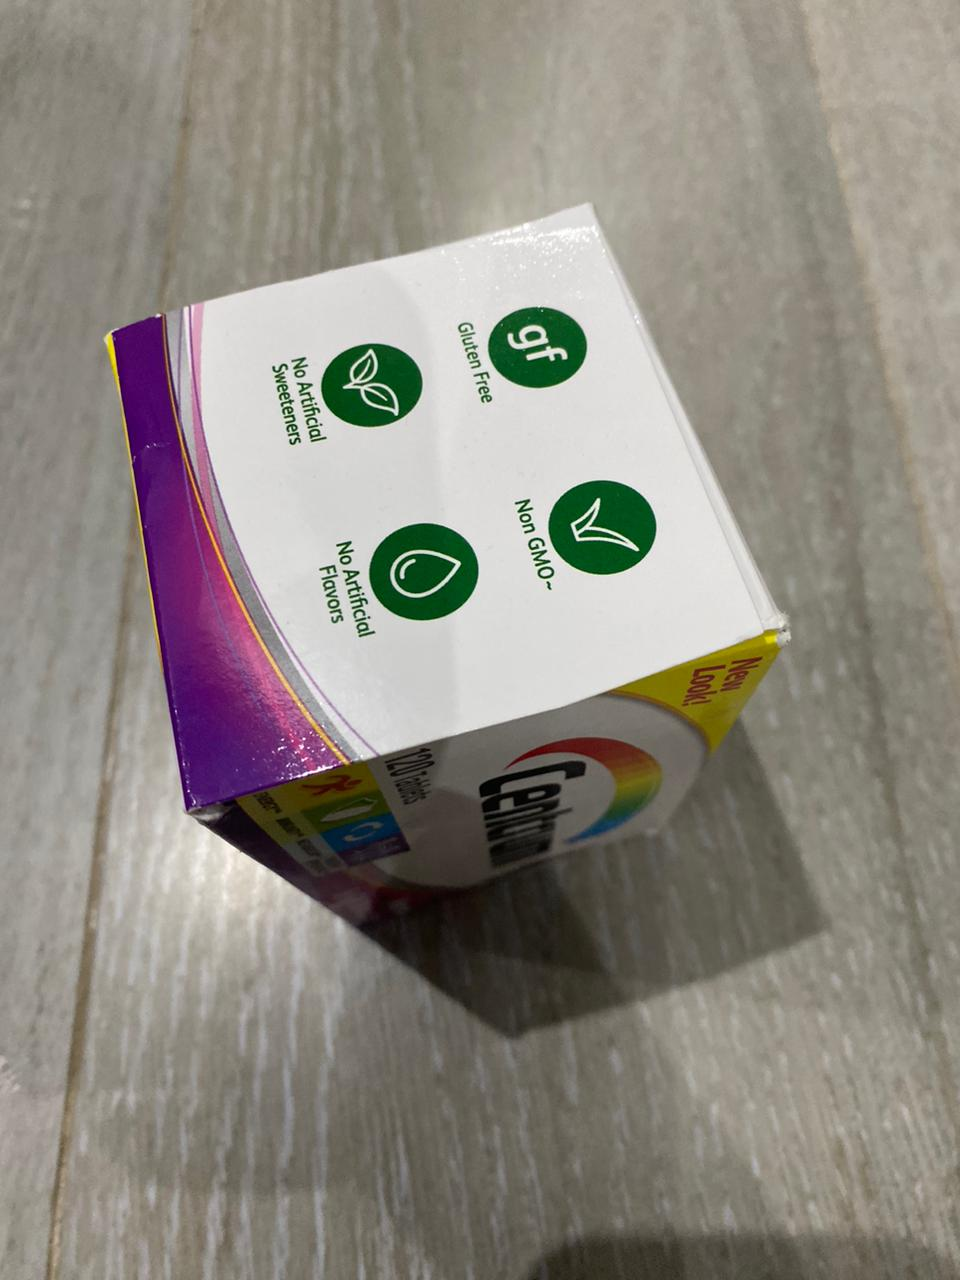Centrum: (101, 201, 809, 942)
